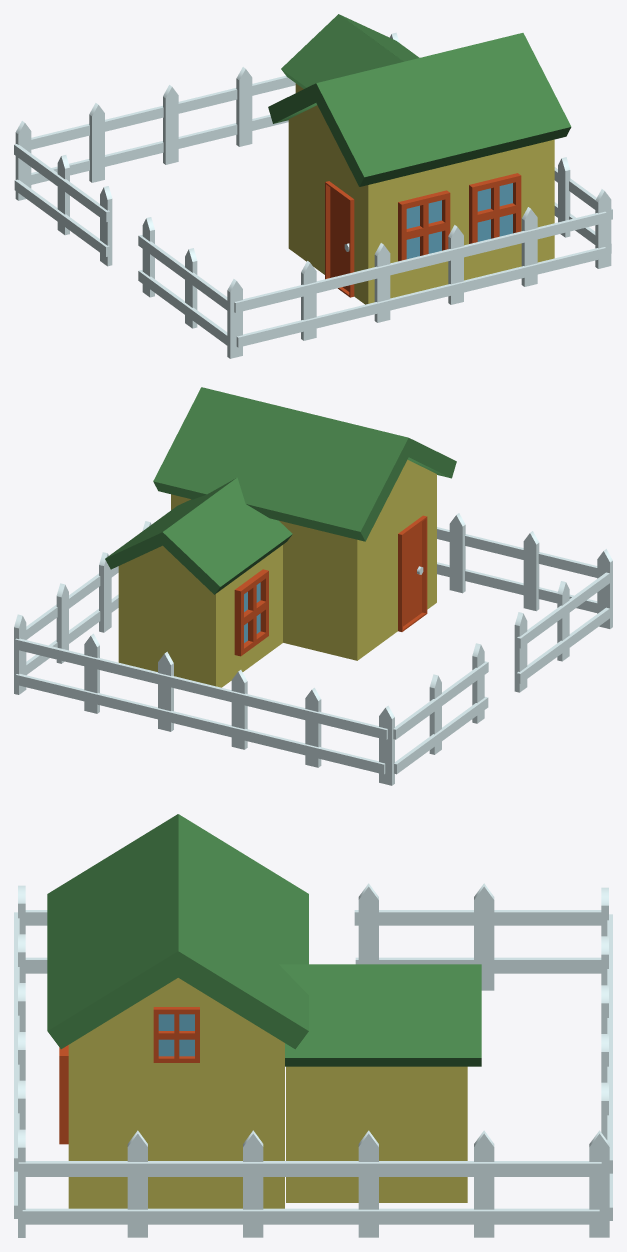
The model's file is House2.FBX.
The picture shows the model from 3 angles, top to bottom: view 1: azimuth 30°, elevation 25°; view 2: azimuth 150°, elevation 25°; view 3: azimuth 270°, elevation 25°; orthographic projection. The views are drawn at different scales.
Parts seen in each view (by area): view 1: House2; view 2: House2; view 3: House2.
Boxes of the visible parts, x1,y1,x2,y2 form: House2: [14, 14, 612, 358]; House2: [14, 387, 612, 785]; House2: [14, 814, 612, 1237].
Bounding box in the file's own units: 6.81 × 3.35 × 6.79.
